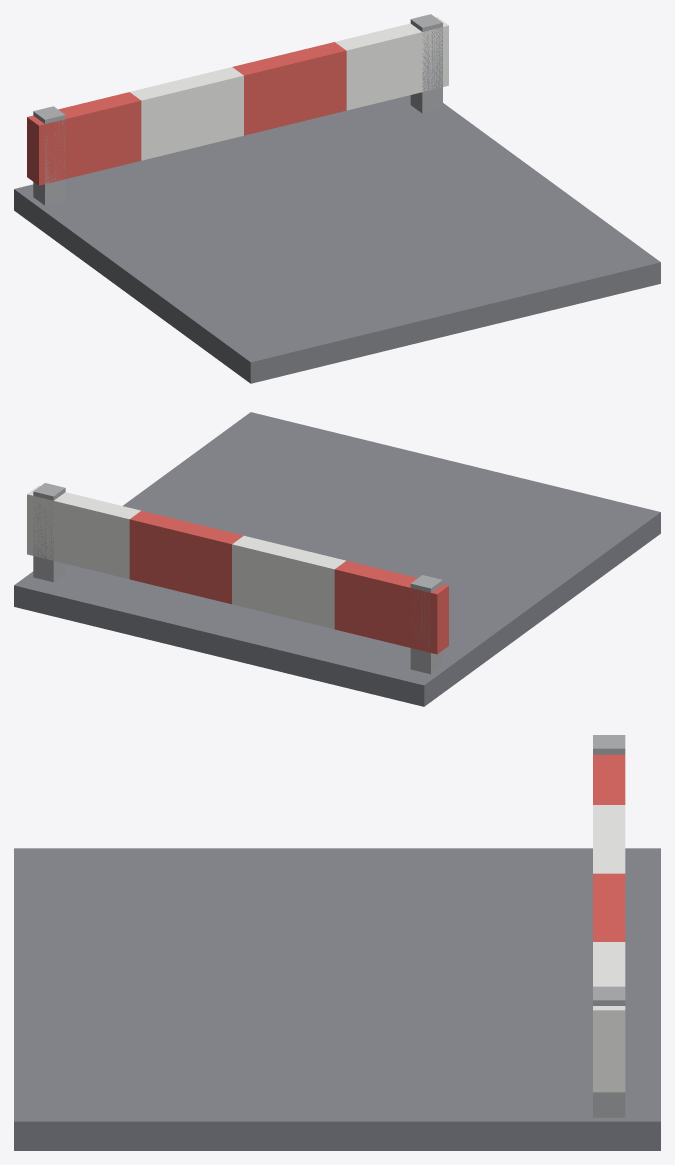
Rendered from road_dead_end.glb.
3 views of the same model, one above another, from view 1: azimuth 30°, elevation 25°; view 2: azimuth 150°, elevation 25°; view 3: azimuth 270°, elevation 25° (orthographic). The views are drawn at different scales.
Parts seen in each view (by area): view 1: road_dead_end; view 2: road_dead_end; view 3: road_dead_end.
Boxes of the visible parts, x1,y1,x2,y2 form: road_dead_end: (14, 14, 660, 383); road_dead_end: (14, 412, 660, 706); road_dead_end: (14, 735, 660, 1150).
Size of the model in its own units: 1 by 0.25 by 1.
